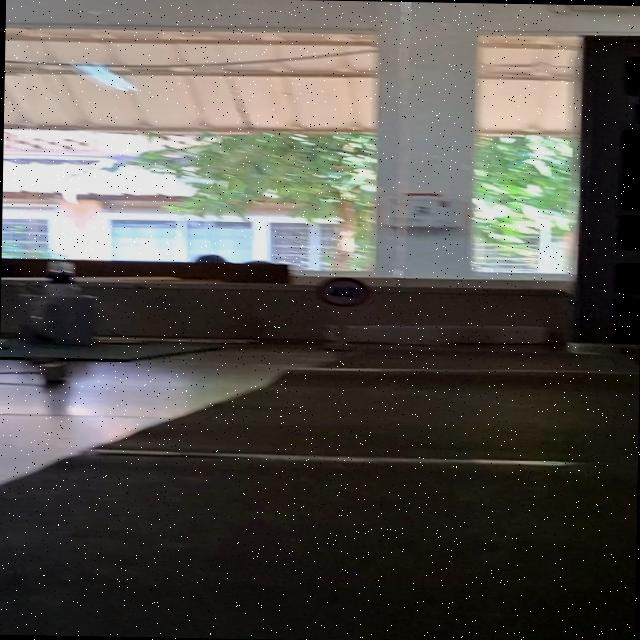Speed40: (312, 274, 374, 310)
